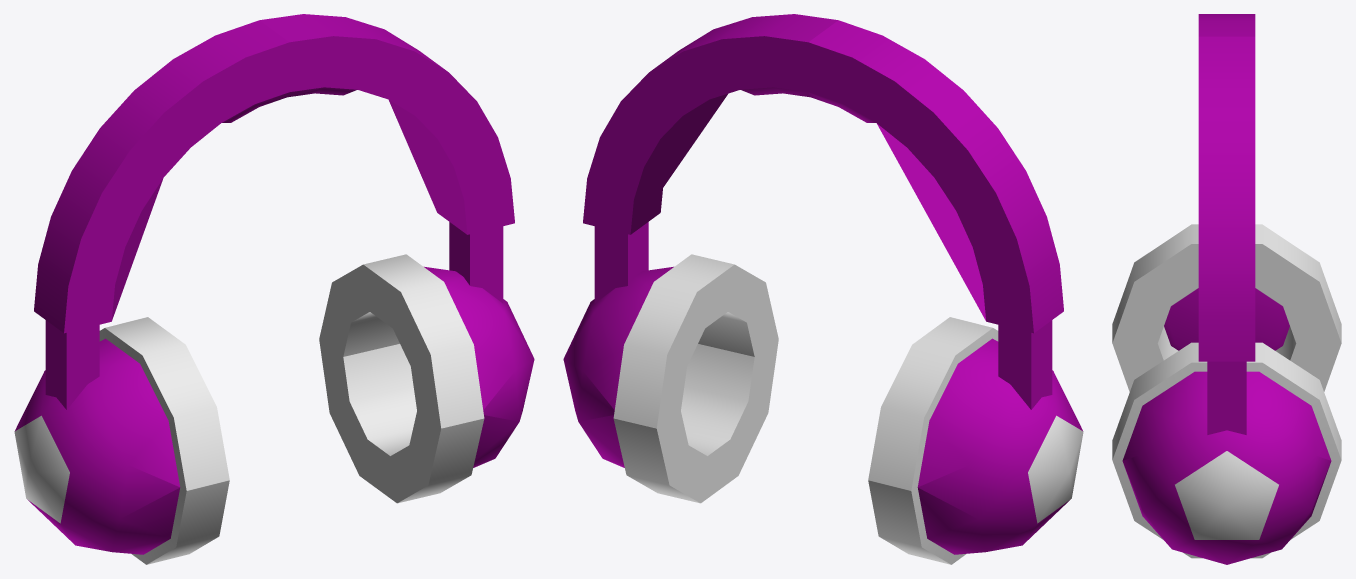
The model's file is headphones_pink.fbx.
The picture shows the model from 3 angles, left to right: view 1: azimuth 30°, elevation 25°; view 2: azimuth 150°, elevation 25°; view 3: azimuth 270°, elevation 25°; orthographic projection. The views are drawn at different scales.
Visible parts, largest first — view 1: headphones_pink; view 2: headphones_pink; view 3: headphones_pink.
Part boxes in pixels (x1=…): headphones_pink: x1=14, y1=14, x2=534, y2=564; headphones_pink: x1=563, y1=14, x2=1083, y2=564; headphones_pink: x1=1112, y1=14, x2=1341, y2=564.
Size of the model in its own units: 57.11 by 53.62 by 24.52.
